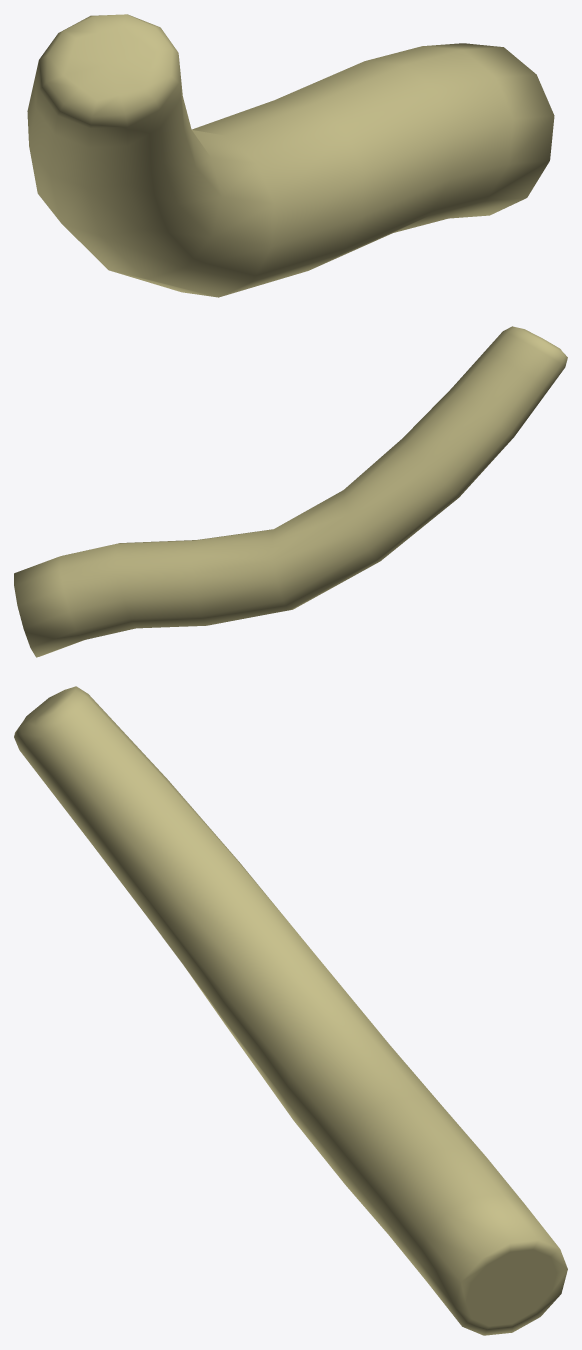
File: Nerves_R4.FBX
3 renders of one model, top to bottom at view 1: azimuth 30°, elevation 25°; view 2: azimuth 150°, elevation 25°; view 3: azimuth 270°, elevation 25°, orthographic. The views are drawn at different scales.
Visible parts, largest first — view 1: Nerves_R4; view 2: Nerves_R4; view 3: Nerves_R4.
Boxes of the visible parts, x1,y1,x2,y2 form: Nerves_R4: [27, 14, 554, 297]; Nerves_R4: [14, 326, 567, 657]; Nerves_R4: [14, 686, 567, 1335].
Bounding box in the file's own units: 0.00792 × 0.00555 × 0.00676.
